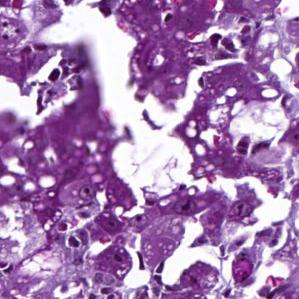ballooning: (228, 96, 292, 158)
